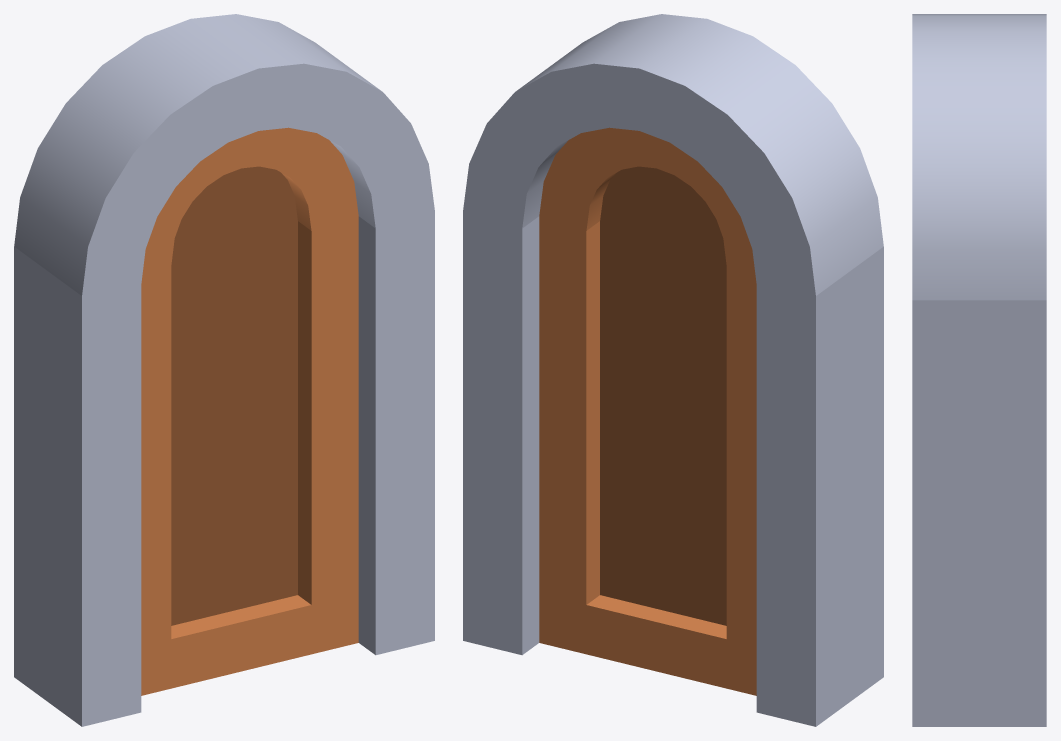
The model's file is doorClosed.obj.
The picture shows the model from 3 angles, left to right: view 1: azimuth 30°, elevation 25°; view 2: azimuth 150°, elevation 25°; view 3: azimuth 270°, elevation 25°; orthographic projection.
Visible parts, largest first — view 1: doorClosed; view 2: doorClosed; view 3: doorClosed.
Part boxes in pixels (bbox=[...]): doorClosed: bbox=[14, 14, 434, 726]; doorClosed: bbox=[463, 14, 883, 726]; doorClosed: bbox=[912, 14, 1046, 726].
Size of the model in its own units: 0.6 by 1 by 0.2.
